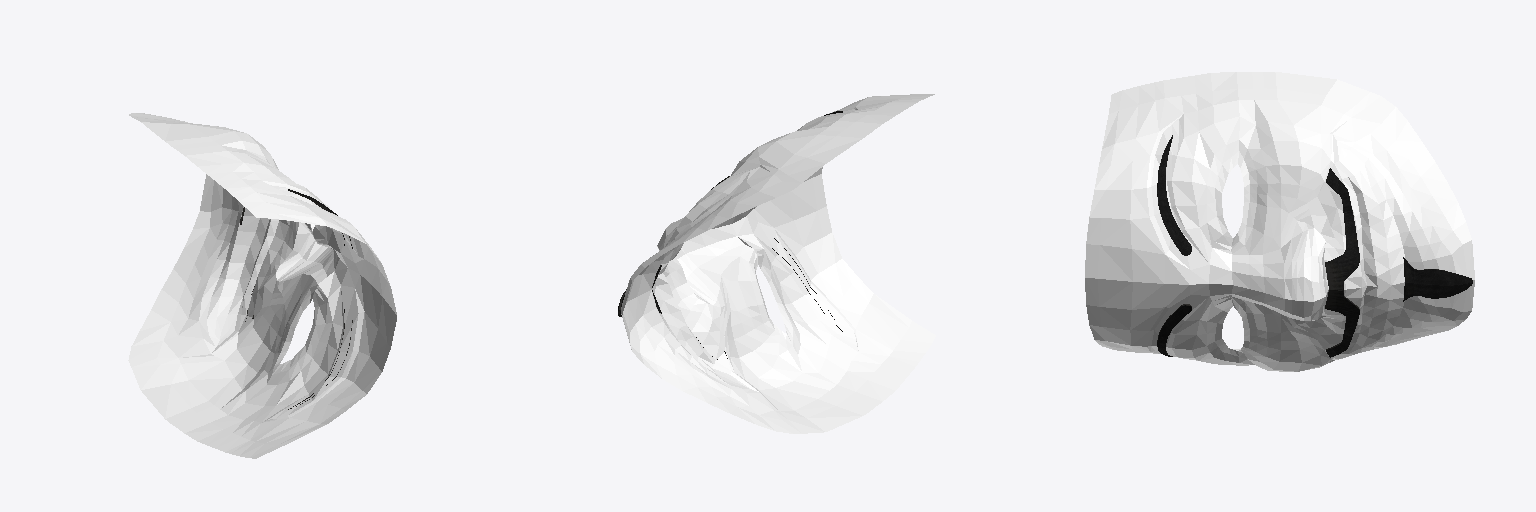
3 views of the same model, side by side, from view 1: azimuth 30°, elevation 25°; view 2: azimuth 150°, elevation 25°; view 3: azimuth 270°, elevation 25° (orthographic).
Parts seen in each view (by area): view 1: Object.1; view 2: Object.1; view 3: Object.1.
Part boxes in pixels (x1,y1,x2,y2): Object.1: (128, 113, 396, 458); Object.1: (618, 94, 935, 433); Object.1: (1085, 72, 1474, 371).
Bounding box in the file's own units: 111 × 158 × 201.
2 materials, 1 textured.